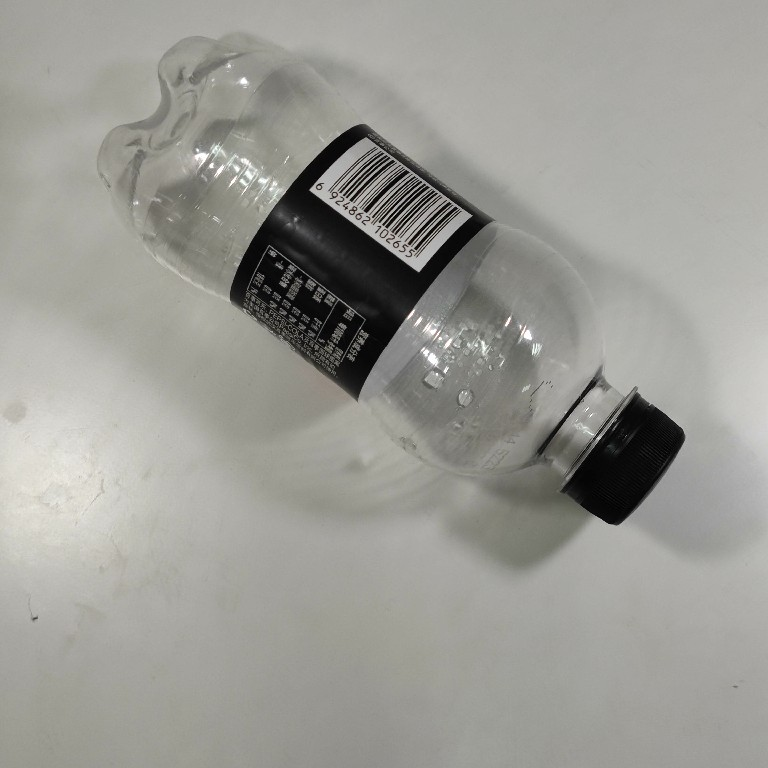bottle: (86, 25, 691, 545)
